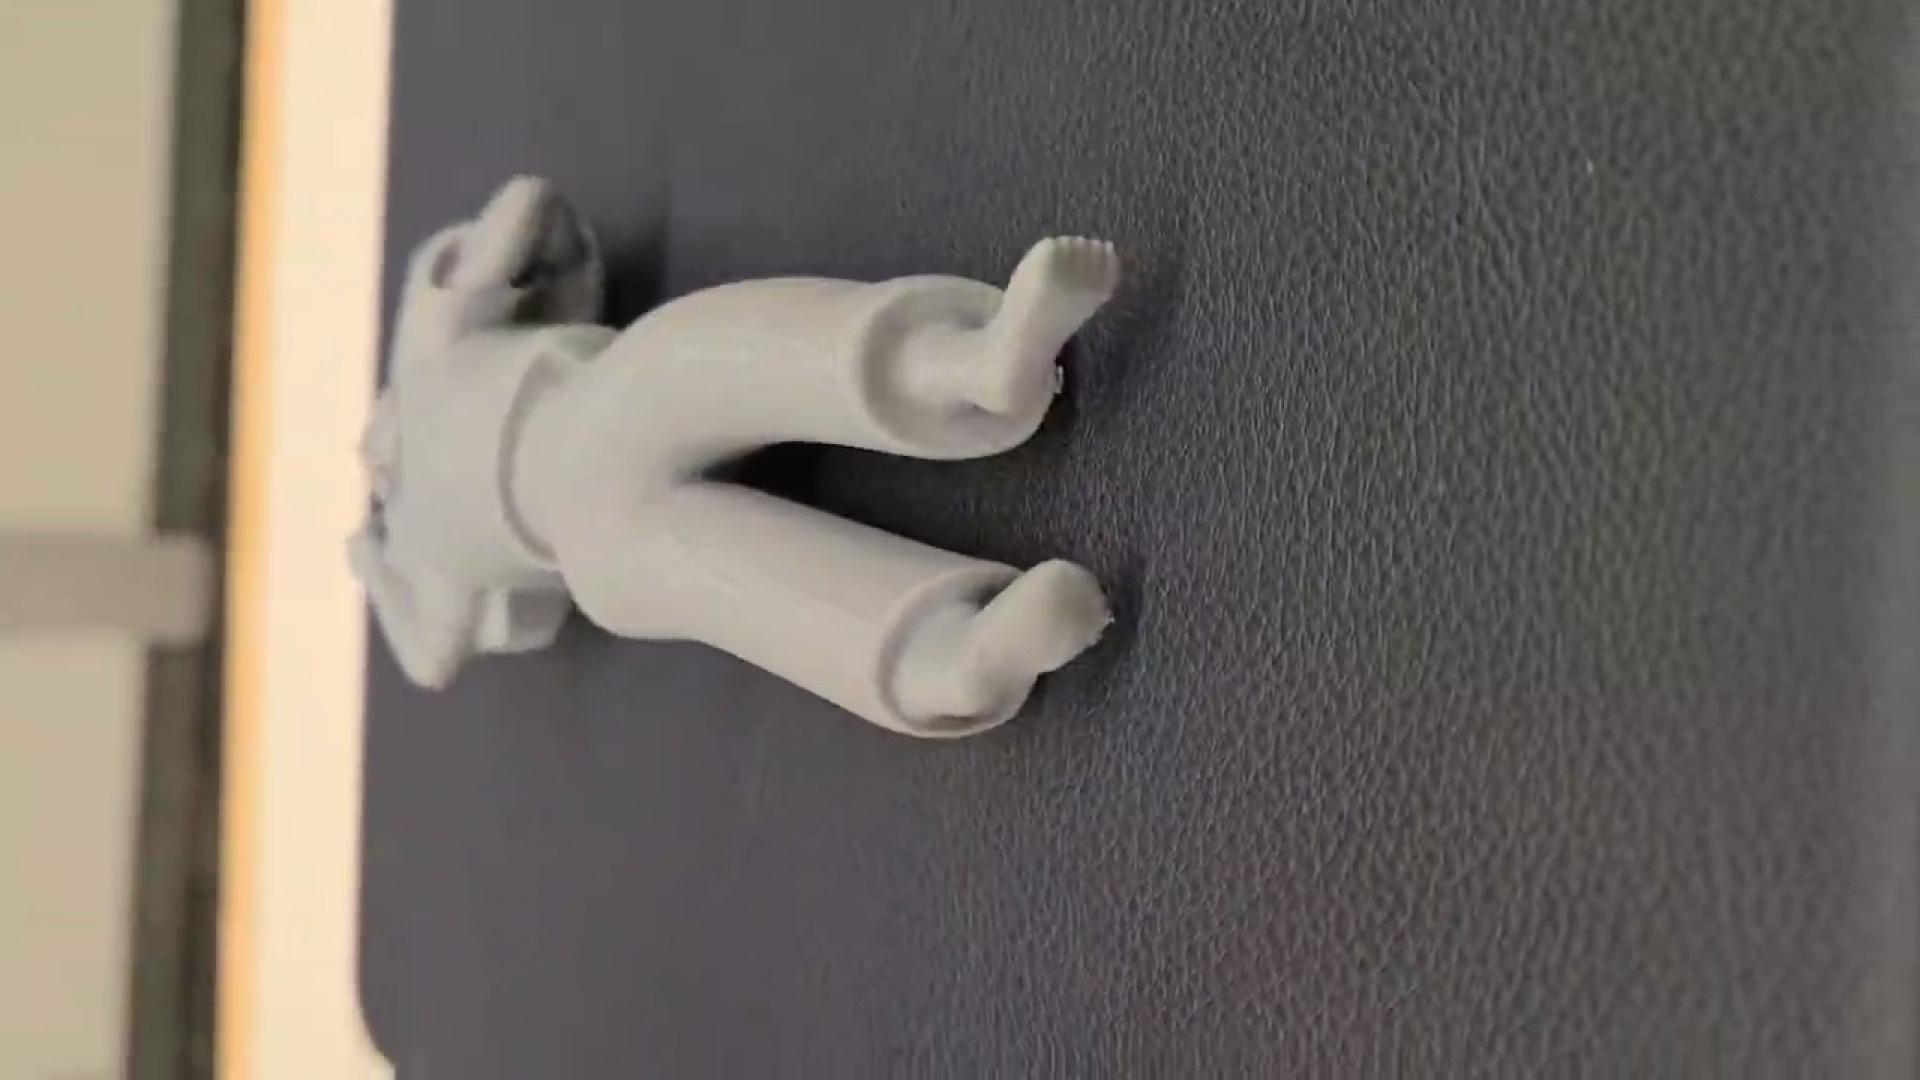Bad-style: (347, 171, 1125, 738)
